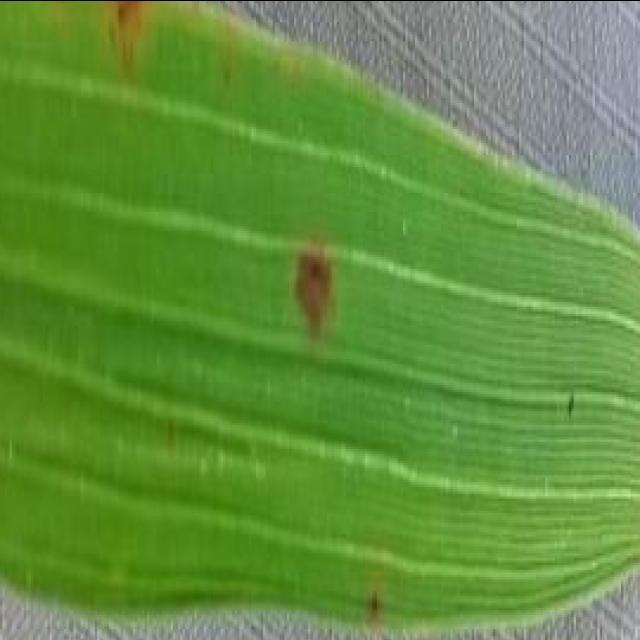Brown_Spot: (278, 237, 356, 358), (100, 0, 162, 76), (557, 377, 590, 434), (361, 580, 394, 628), (106, 0, 154, 31), (214, 57, 246, 97), (119, 36, 142, 76), (104, 22, 120, 48), (45, 0, 83, 10)
